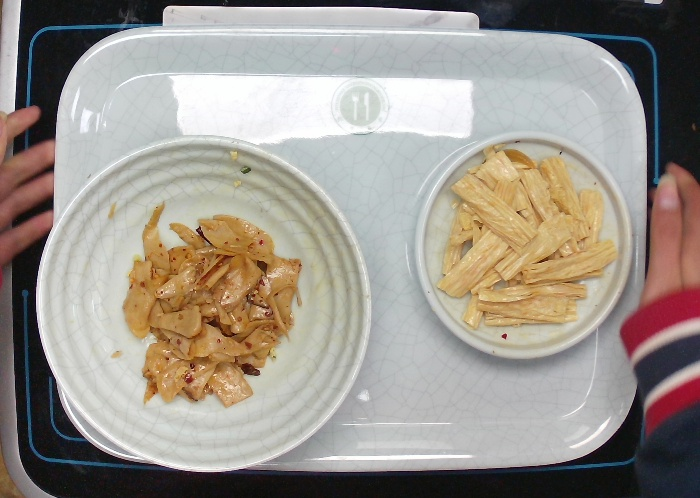JYsf-Da_Tang_Wan: (29, 129, 374, 476)
JYsf-Xiao_Yuan_Pan: (403, 128, 646, 370)
